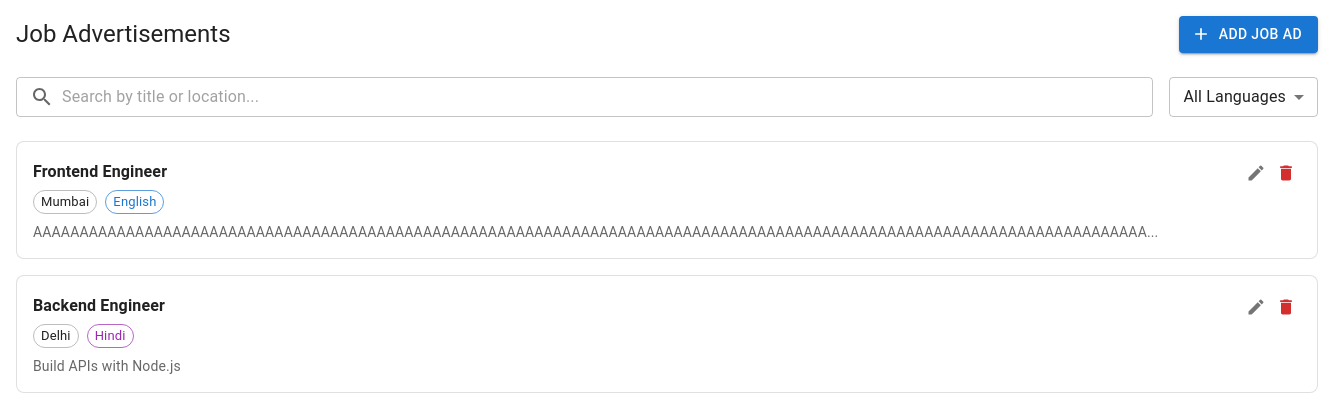
Scenario: JobAdsListPage › filters job ads by search term in the title case-insensitively
Type "frontend" into the field with placeholder "Search by title or location..." at x=608, y=96, box [62, 76, 1154, 116]
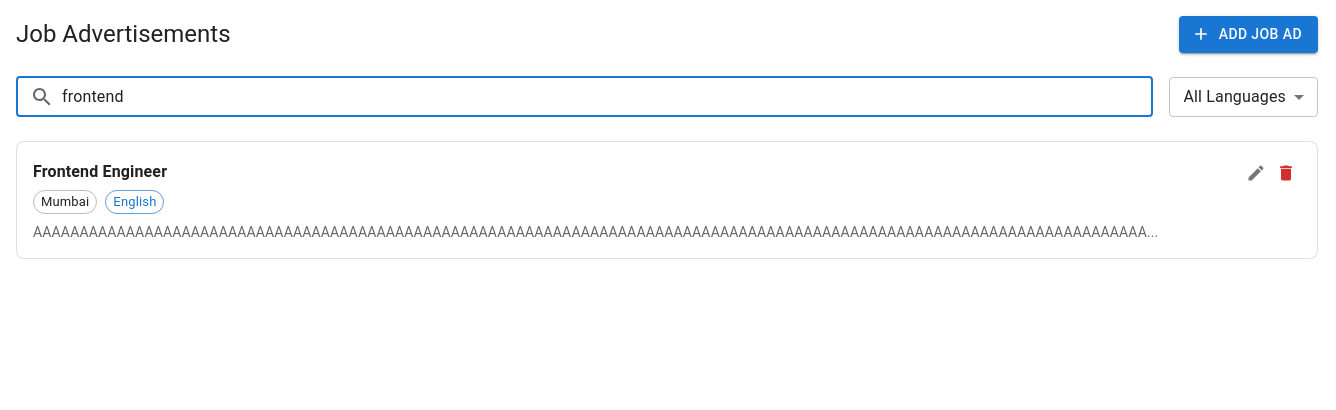
Check: the heading "Frontend Engineer" is shown, box [33, 162, 167, 180]
Check: the heading "Backend Engineer" is gone
